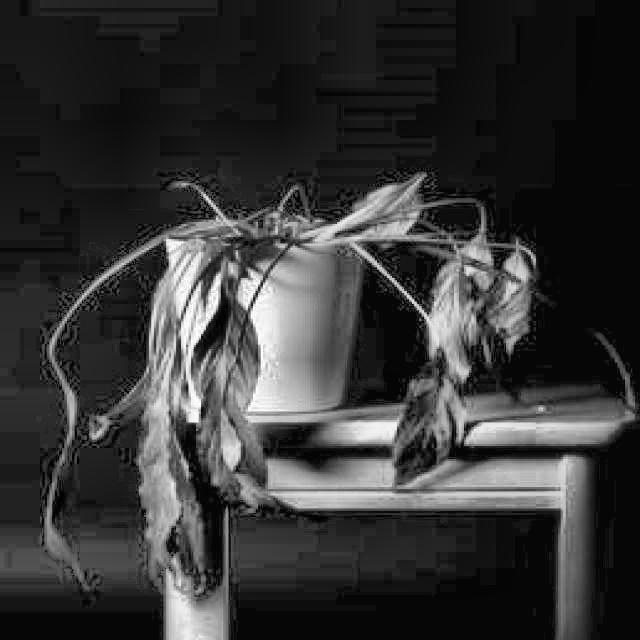plants: (39, 155, 558, 638)
